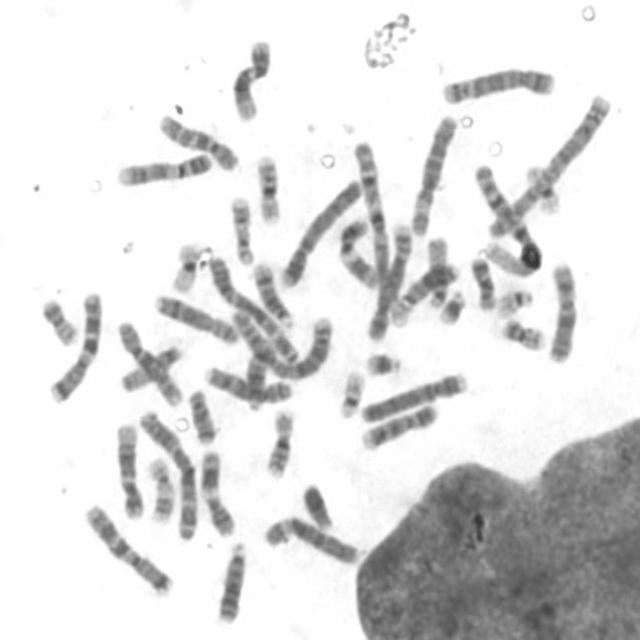A1: (468, 155, 546, 277), (348, 133, 393, 317)
A2: (480, 86, 615, 240), (226, 301, 337, 382)
A3: (201, 248, 302, 366), (133, 402, 203, 541)
B4: (274, 170, 367, 289), (355, 362, 472, 426)
B5: (362, 213, 415, 341), (438, 59, 560, 106)
C10: (111, 313, 187, 407), (153, 105, 244, 173)
C11: (195, 441, 239, 538), (334, 209, 383, 290)
C12: (227, 31, 275, 122), (110, 415, 147, 521)
C6: (405, 105, 461, 237), (258, 507, 364, 566)
C7: (78, 495, 177, 597), (42, 283, 106, 405)
C8: (148, 286, 243, 345), (199, 356, 297, 405)
C9: (356, 394, 442, 453), (111, 143, 218, 188)
D13: (212, 533, 250, 625), (401, 262, 462, 310)
D14: (248, 253, 297, 330), (240, 334, 278, 412)
D15: (113, 336, 187, 393), (422, 230, 453, 308)
E16: (259, 401, 299, 478), (250, 145, 286, 225)
E17: (142, 450, 178, 526), (226, 188, 258, 266)
E18: (182, 381, 220, 445), (466, 248, 500, 311)
F19: (521, 155, 564, 216), (165, 233, 204, 294)
F20: (35, 289, 81, 348), (497, 310, 549, 352)
G21: (433, 282, 470, 327), (359, 343, 406, 378)
G22: (333, 362, 369, 420), (492, 280, 537, 318)
X: (543, 253, 583, 365)
Y: (296, 474, 337, 532)
